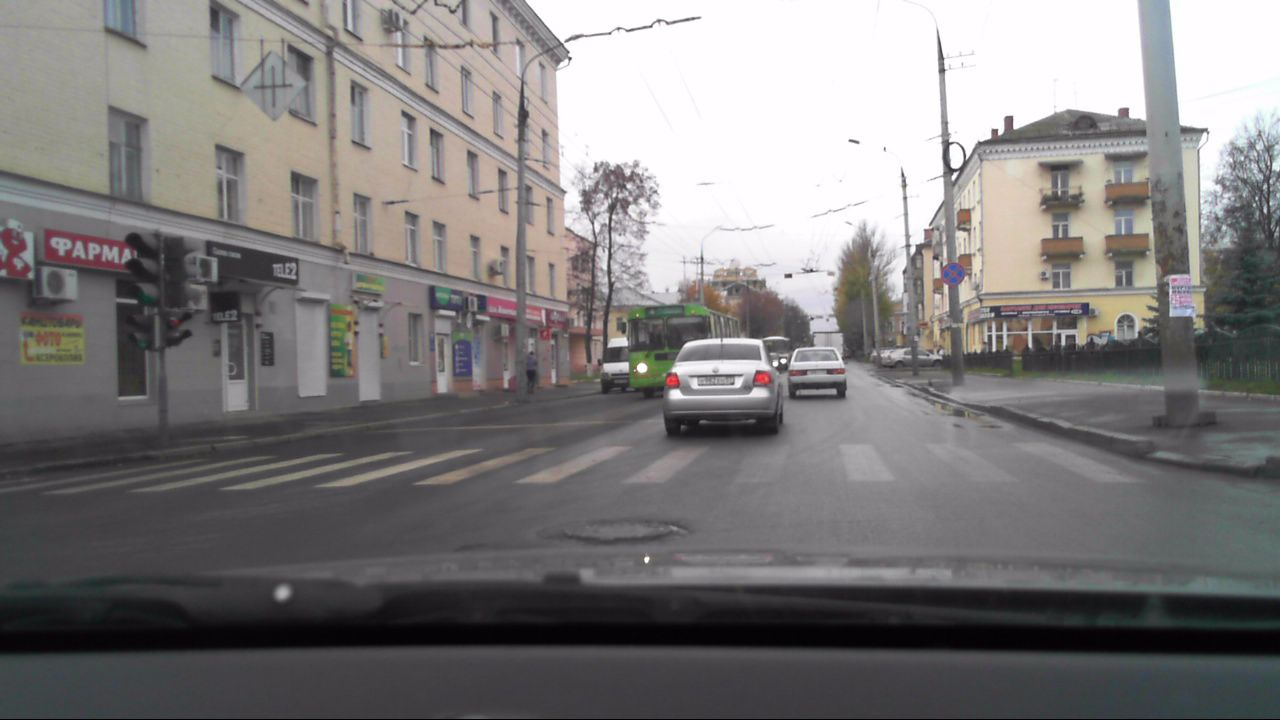No Parking: (940, 261, 969, 290)
